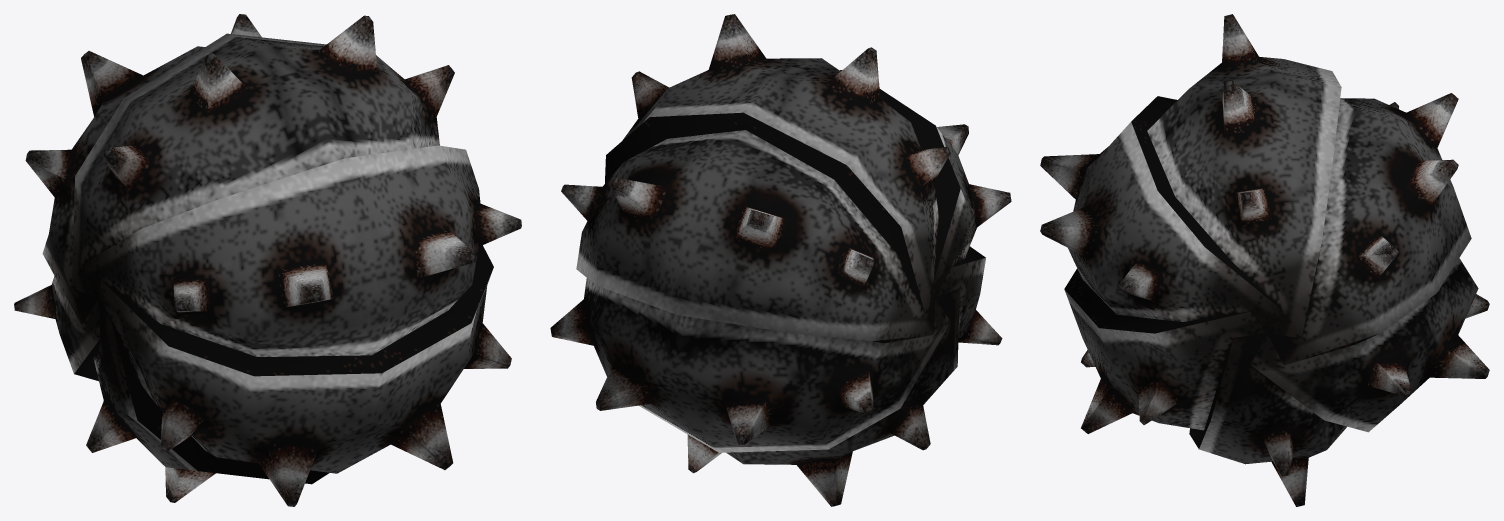
The model's file is togedango_maru.fbx.
The picture shows the model from 3 angles, left to right: view 1: azimuth 30°, elevation 25°; view 2: azimuth 150°, elevation 25°; view 3: azimuth 270°, elevation 25°; orthographic projection. The views are drawn at different scales.
Parts seen in each view (by area): view 1: 平面.005; view 2: 平面.005; view 3: 平面.005.
Part boxes in pixels (box(x1,y1,x2,y2)): 平面.005: box(14, 14, 521, 506); 平面.005: box(550, 14, 1011, 506); 平面.005: box(1040, 14, 1489, 506).
Bounding box in the file's own units: 281 × 361 × 345.
Materials: 1 (1 with a texture image).
